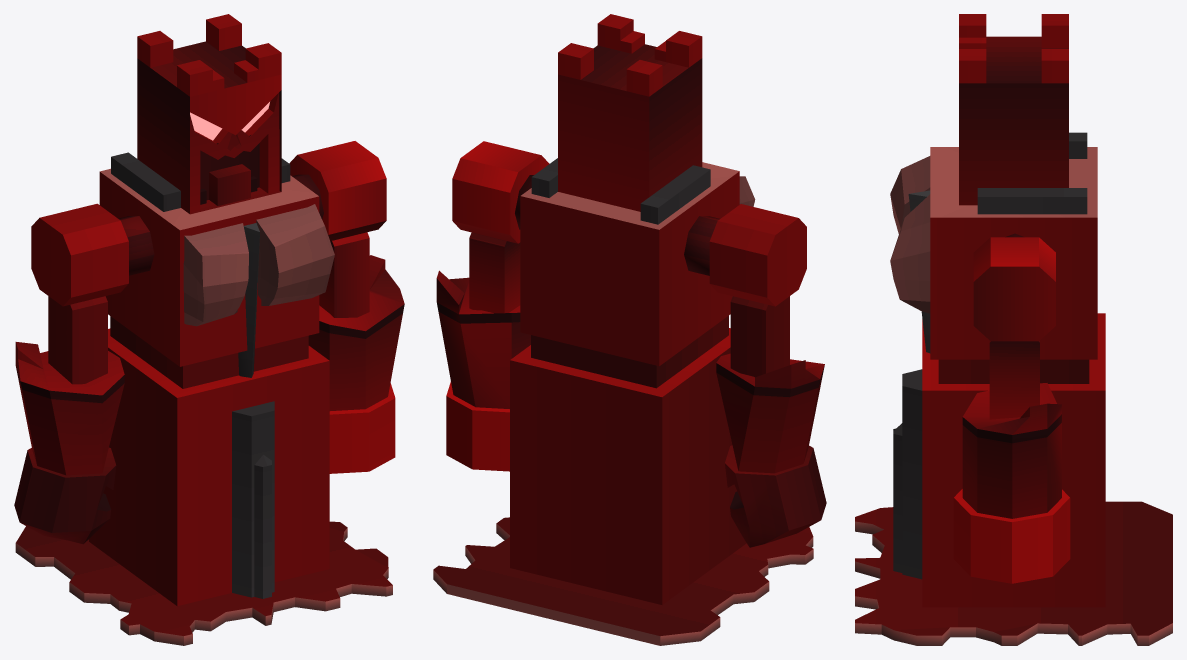
The model's file is Megatron.fbx.
3 views of the same model, side by side, from view 1: azimuth 30°, elevation 25°; view 2: azimuth 150°, elevation 25°; view 3: azimuth 270°, elevation 25° (orthographic). The views are drawn at different scales.
Parts seen in each view (by area): view 1: Cube.004, Cylinder.001, Cylinder.003, face, base, hair, Cube.001, face.001, Cylinder.002; view 2: Cube.004, Cylinder.001, Cylinder.003, face, base, hair, Cube.001, Cylinder.002; view 3: Cube.004, Cylinder.003, base, face, hair, Cube.001.
Part boxes in pixels (x1,y1,x2,y2): Cube.004: [89, 168, 334, 606]; Cylinder.001: [14, 203, 128, 544]; Cylinder.003: [289, 141, 404, 473]; face: [137, 41, 281, 214]; base: [15, 521, 392, 645]; hair: [137, 14, 281, 96]; Cube.001: [111, 152, 290, 211]; face.001: [209, 164, 250, 205]; Cylinder.002: [118, 216, 154, 275]; Cube.004: [510, 162, 755, 604]; Cylinder.001: [709, 204, 826, 547]; Cylinder.003: [436, 141, 549, 471]; face: [558, 44, 702, 211]; base: [433, 517, 813, 645]; hair: [558, 14, 702, 96]; Cube.001: [531, 158, 710, 224]; Cylinder.002: [684, 216, 719, 275]; Cube.004: [890, 147, 1105, 607]; Cylinder.003: [953, 237, 1070, 583]; base: [855, 501, 1172, 645]; face: [959, 36, 1068, 205]; hair: [959, 14, 1068, 83]; Cube.001: [977, 132, 1087, 214].
Bounding box in the file's own units: 566 × 741 × 394.
